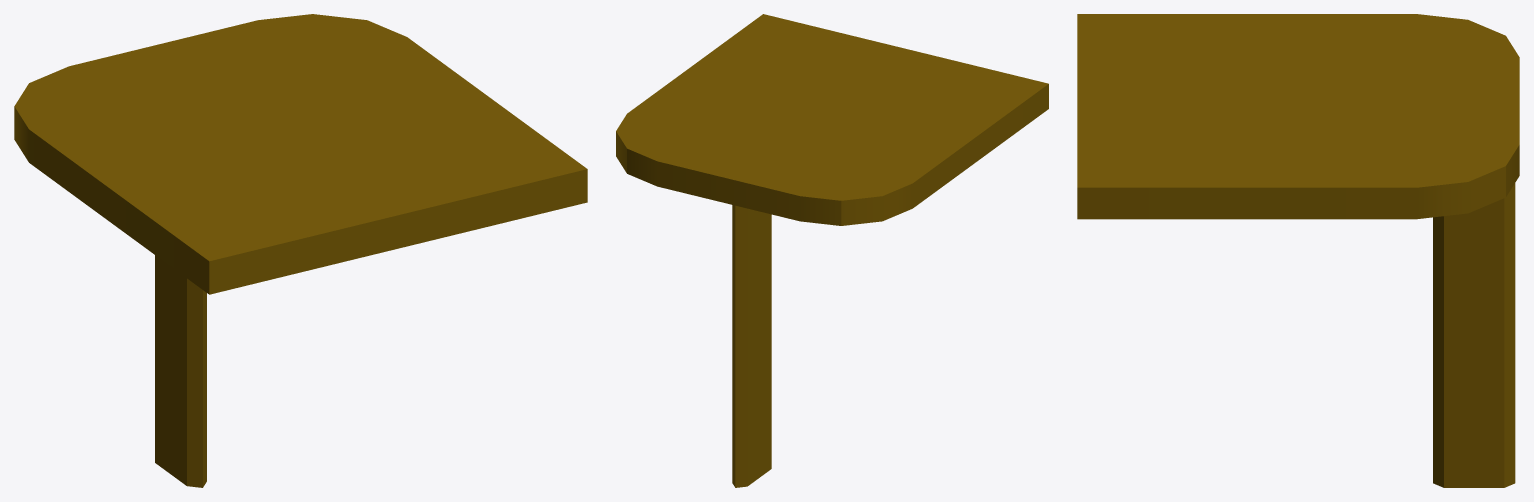
Rendered from TrainTable.fbx.
3 views of the same model, side by side, from view 1: azimuth 30°, elevation 25°; view 2: azimuth 150°, elevation 25°; view 3: azimuth 270°, elevation 25° (orthographic). The views are drawn at different scales.
Visible parts, largest first — view 1: pCube21; view 2: pCube21; view 3: pCube21.
Boxes of the visible parts, x1,y1,x2,y2 form: pCube21: (14,14,587,487); pCube21: (616,14,1048,487); pCube21: (1077,14,1519,487).
Bounding box in the file's own units: 61.04 × 63.15 × 65.67.
